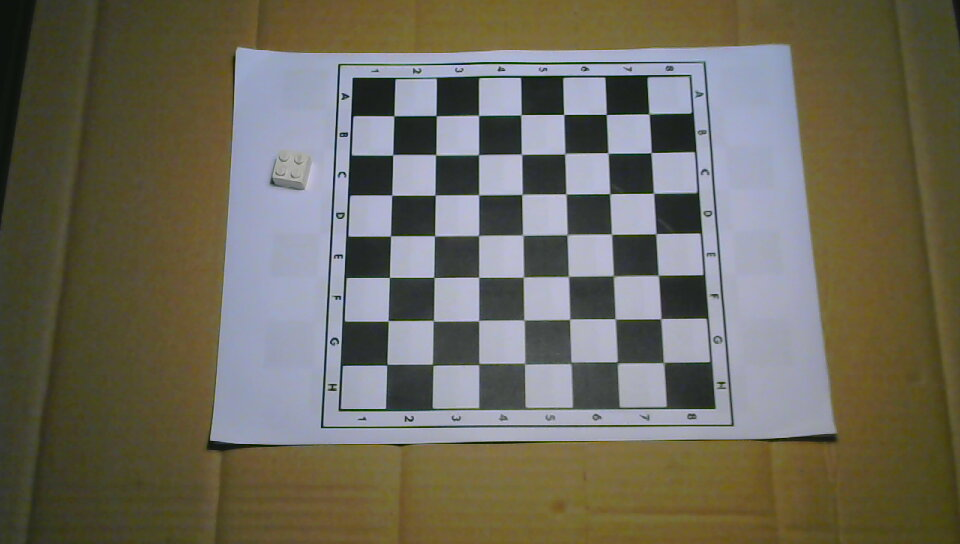wp: (271, 149, 311, 190)
